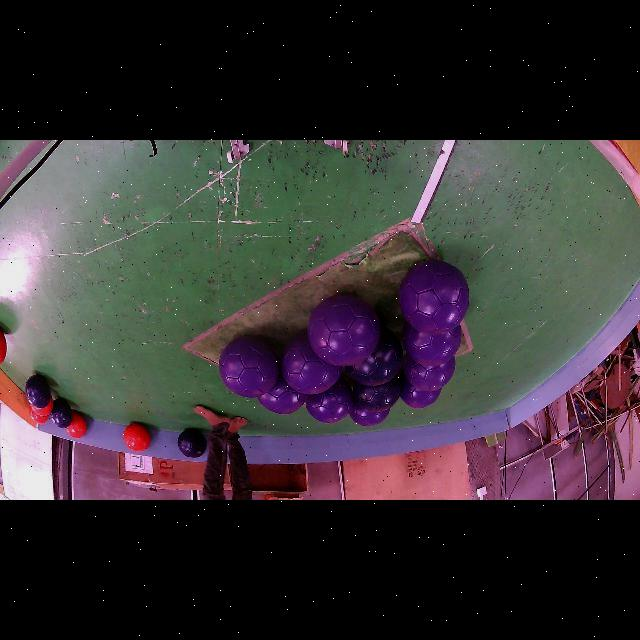B: (346, 327, 402, 386), (354, 376, 401, 412), (25, 374, 51, 409), (178, 429, 206, 458), (50, 399, 72, 429)
P: (399, 260, 469, 335), (309, 295, 381, 366), (281, 334, 342, 395), (219, 336, 279, 398), (402, 321, 461, 366), (308, 378, 356, 422), (258, 376, 308, 414), (404, 355, 455, 391), (397, 372, 441, 409), (350, 403, 390, 426)
R: (124, 424, 150, 451), (65, 412, 86, 439), (31, 398, 54, 416), (29, 405, 49, 424), (0, 329, 6, 364)
